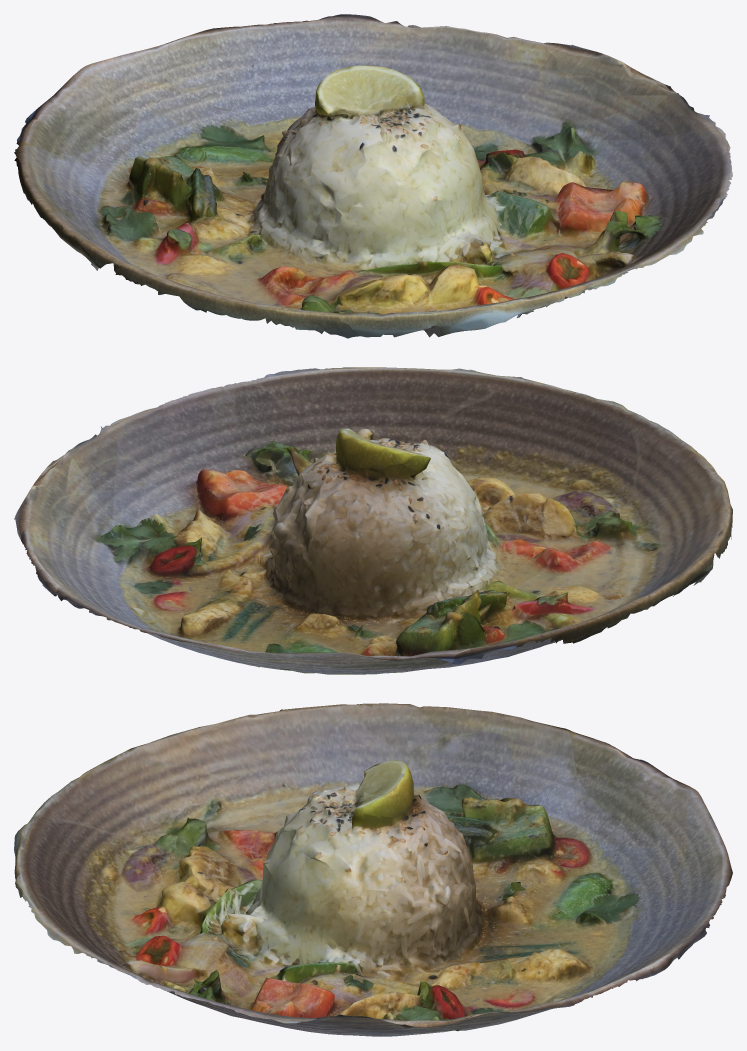
File: frango-curry-v03.glb
The picture shows the model from 3 angles, top to bottom: view 1: azimuth 30°, elevation 25°; view 2: azimuth 150°, elevation 25°; view 3: azimuth 270°, elevation 25°; orthographic projection.
Visible parts, largest first — view 1: Object_7, Object_3, Object_5, Object_4, Object_6; view 2: Object_4, Object_7, Object_3, Object_5, Object_6; view 3: Object_3, Object_4, Object_6, Object_7, Object_5.
Boxes of the visible parts, x1,y1,x2,y2 form: Object_7: (57,14,730,338); Object_3: (20,57,677,312); Object_5: (14,15,577,314); Object_4: (27,89,732,292); Object_6: (60,82,617,337); Object_4: (81,367,654,674); Object_7: (14,407,732,673); Object_3: (197,404,708,674); Object_5: (19,447,710,649); Object_6: (130,374,718,665); Object_3: (46,735,709,1024); Object_4: (16,718,629,1036); Object_6: (14,703,657,980); Object_7: (82,709,732,1035); Object_5: (85,703,698,1027).
Bounding box in the file's own units: 0.28 × 0.0689 × 0.2808.
Materials: 6 (5 with a texture image).
